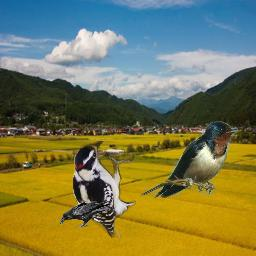Crow: (60, 201, 113, 227)
Swallow: (140, 121, 238, 198)
Woodpecker: (73, 141, 136, 238)
